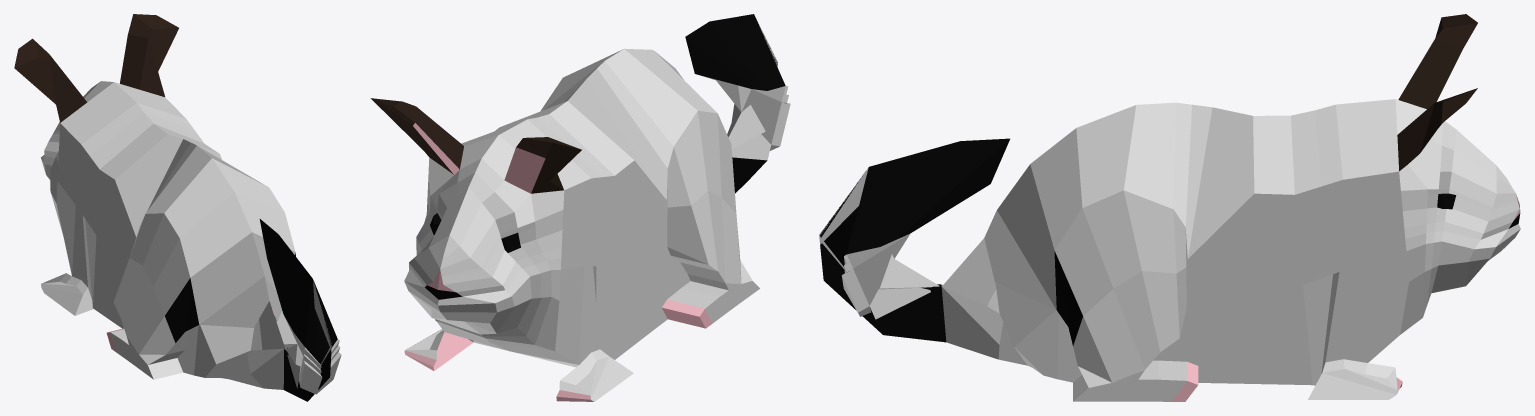
File: mikaModel.fbx
3 views of the same model, side by side, from view 1: azimuth 30°, elevation 25°; view 2: azimuth 150°, elevation 25°; view 3: azimuth 270°, elevation 25° (orthographic). The views are drawn at different scales.
Visible parts, largest first — view 1: Cube; view 2: Cube; view 3: Cube.
Part boxes in pixels (x1=…): Cube: x1=14, y1=14, x2=341, y2=401; Cube: x1=370, y1=14, x2=790, y2=401; Cube: x1=819, y1=14, x2=1520, y2=401.
Bounding box in the file's own units: 99.6 × 132 × 277.
